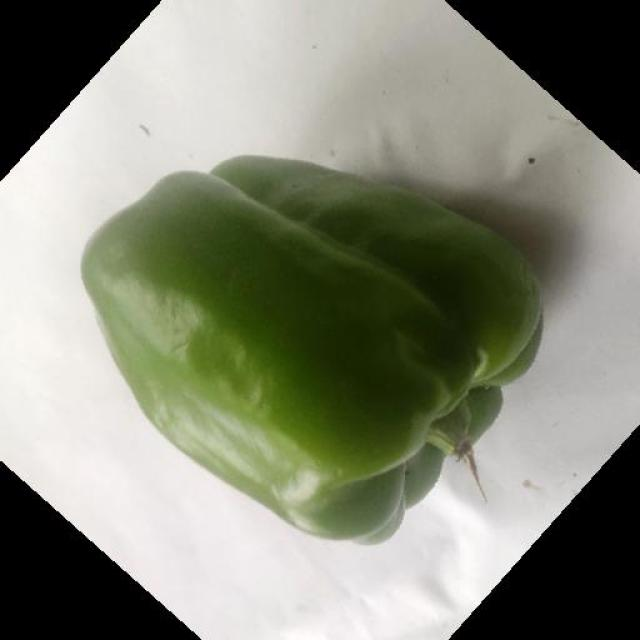Fresh_Capsicum: (102, 123, 507, 535)
